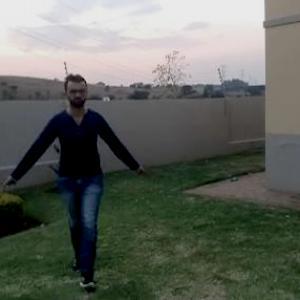land: (1, 51, 152, 300)
